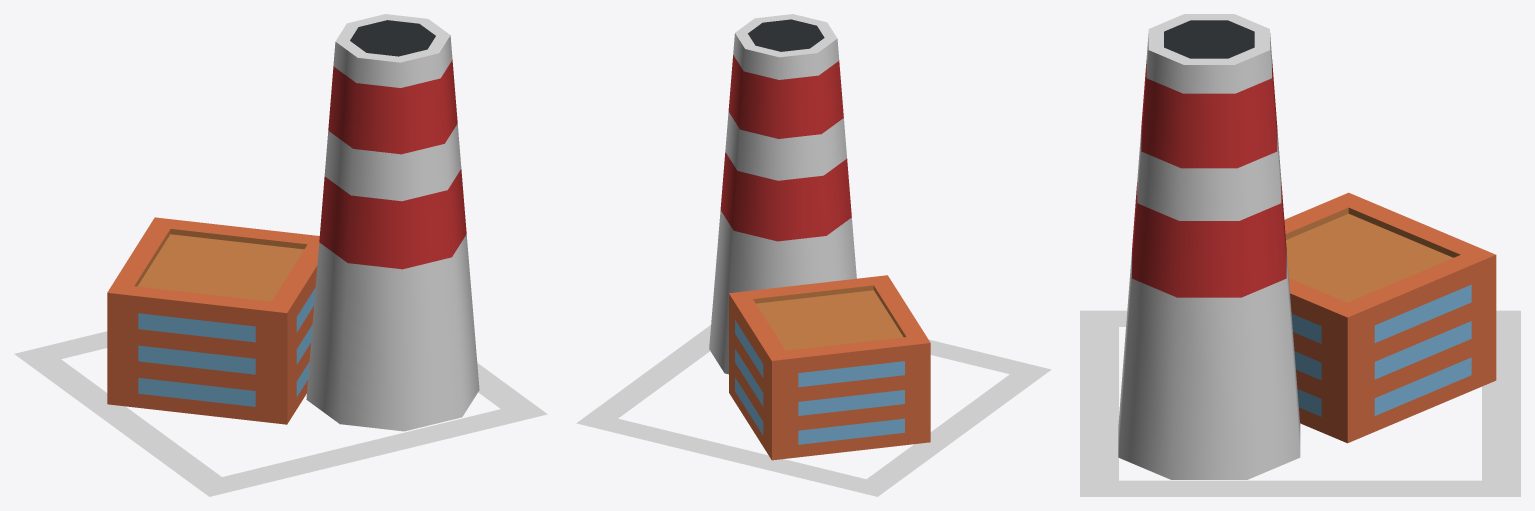
The model's file is Factory 2.fbx.
The picture shows the model from 3 angles, left to right: view 1: azimuth 30°, elevation 25°; view 2: azimuth 150°, elevation 25°; view 3: azimuth 270°, elevation 25°; orthographic projection. The views are drawn at different scales.
Parts seen in each view (by area): view 1: Factory; view 2: Factory; view 3: Factory.
Part boxes in pixels (<box>): Factory: <box>14,14,547,496</box>; Factory: <box>576,14,1051,496</box>; Factory: <box>1080,14,1520,496</box>.
Size of the model in its own units: 238 by 241 by 238.
